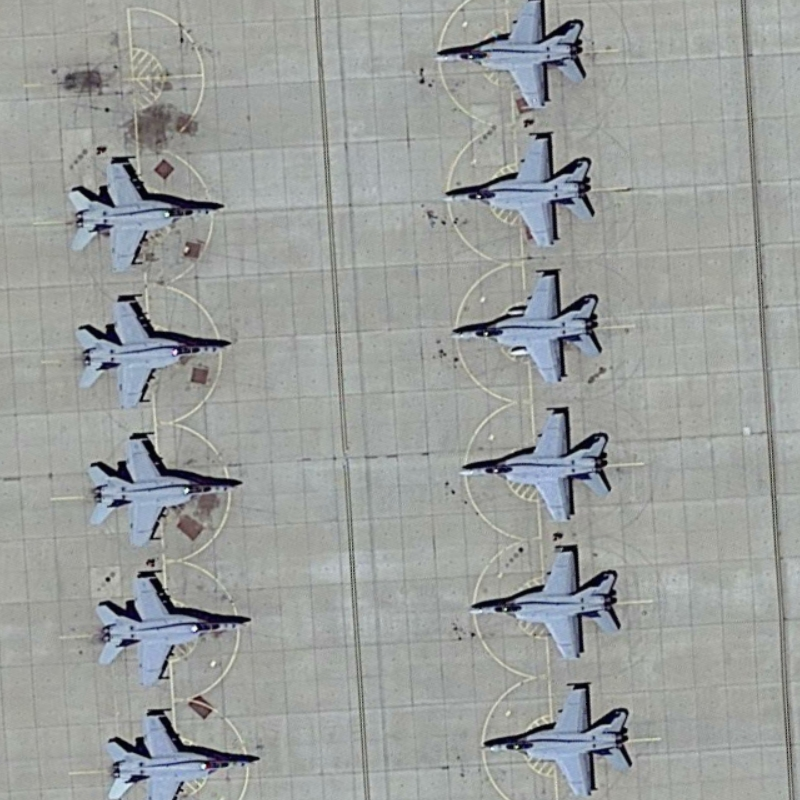A16: (88, 564, 258, 696), (65, 150, 231, 281), (457, 542, 626, 670), (442, 262, 610, 389), (82, 427, 247, 555), (434, 127, 600, 253), (70, 291, 239, 414), (453, 402, 615, 529), (476, 678, 639, 800), (426, 1, 598, 116), (93, 705, 262, 800)
